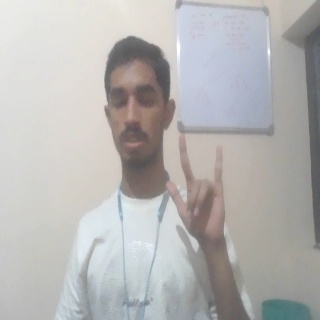Face: (102, 35, 177, 169)
I Love You: (164, 132, 230, 248)
